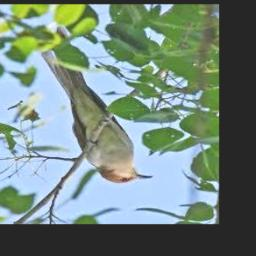Cuckoo: (39, 28, 153, 184)
